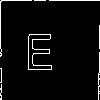E: (25, 25, 54, 70)
